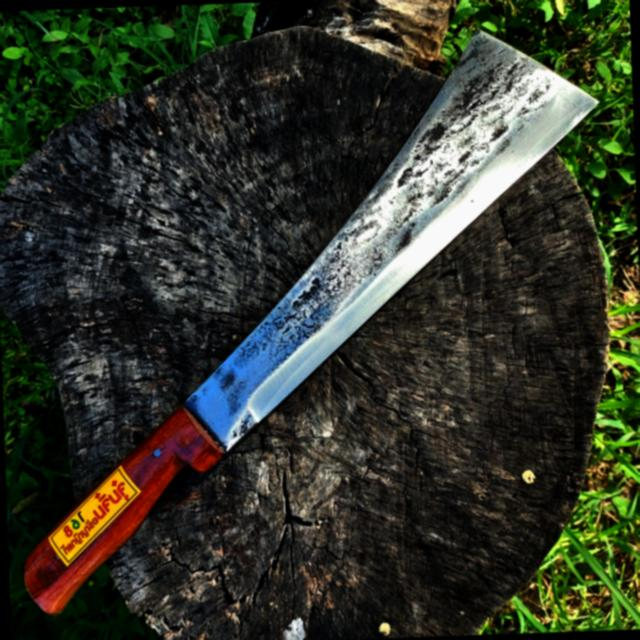eto: (12, 20, 619, 622)
